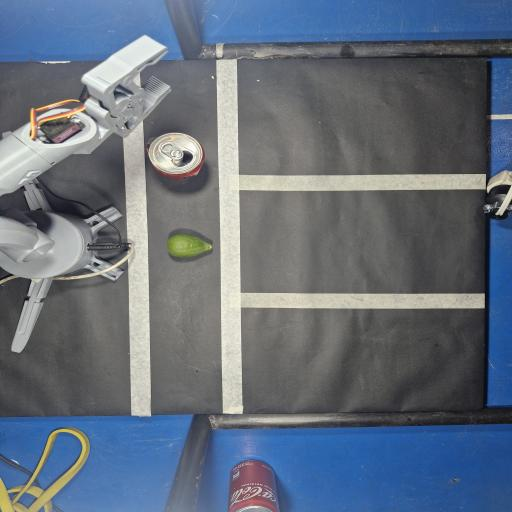higo: (167, 234, 211, 258)
lata_defectuoso: (147, 133, 204, 179)
